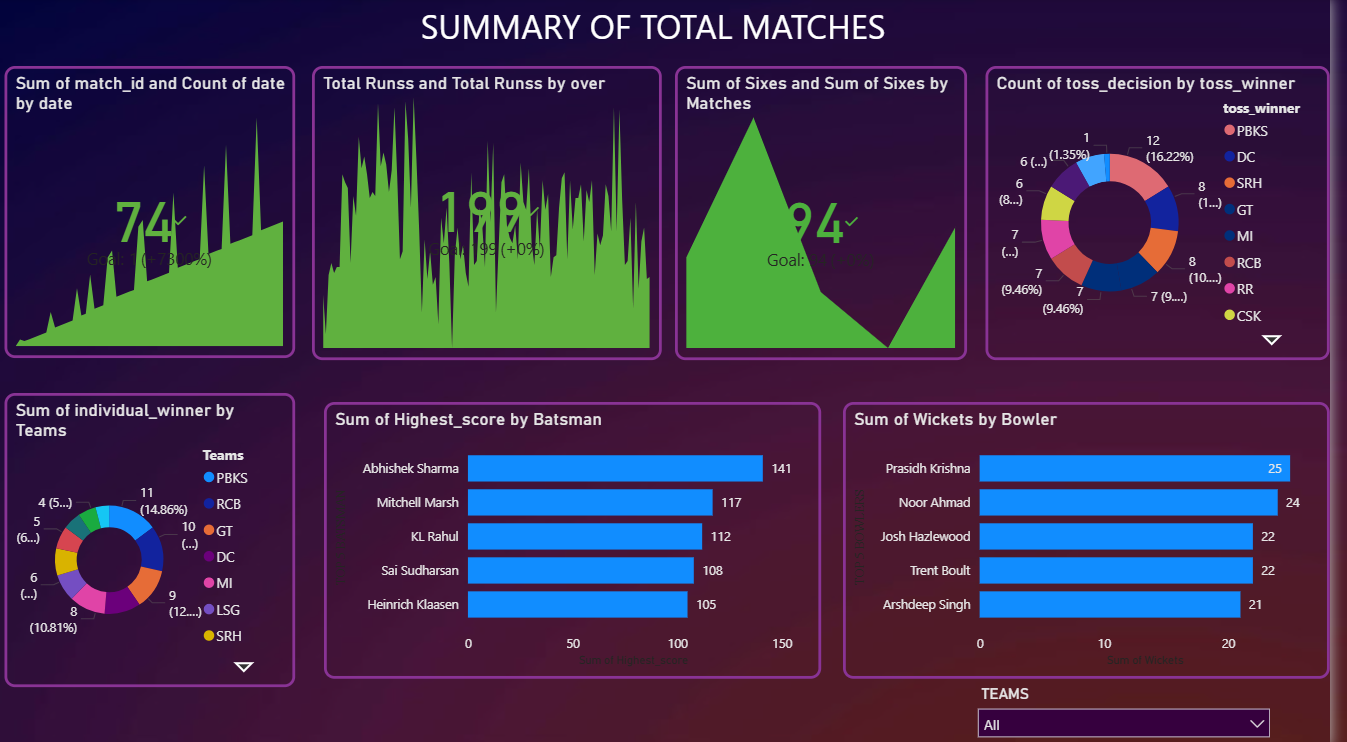

Layout of this report page (visuals, bound fields, positions):
{"tool":"powerbi","page":{"name":"Page 2","canvas":[1280,720],"ordinal":1},"visuals":[{"type":"kpi","fields":{"Indicator":["Sum(Matches.match_id)"],"TrendLine":["Matches.date"],"Goal":["CountNonNull(Matches.date)"]},"box":[10,66.7,278.3,280],"z":0},{"type":"kpi","fields":{"Indicator":["Deliveries.Total Runss"],"TrendLine":["Deliveries.over"],"Goal":["Deliveries.Total Runss"]},"box":[305,66.7,335,281.7],"z":1000},{"type":"kpi","fields":{"Indicator":["Sum(orange_cap2.Sixes)"],"TrendLine":["orange_cap2.Matches"],"Goal":["Sum(orange_cap2.Sixes)"]},"box":[653.3,66.7,280,281.7],"z":2000},{"type":"donutChart","fields":{"Y":["Sum(Matches (2).individual_winner)"],"Category":["Matches (2).Teams"]},"box":[10,380,278.3,281.7],"z":3000},{"type":"barChart","fields":{"Category":["orange_cap2.Batsman"],"Y":["Sum(orange_cap2.Highest_score)"]},"box":[316.7,388.3,476.7,265],"z":4000},{"type":"barChart","fields":{"Category":["purple_cap3.Bowler"],"Y":["Sum(purple_cap3.Wickets)"]},"box":[813.3,388.3,466.7,265],"z":5000},{"type":"donutChart","fields":{"Category":["Matches.toss_winner"],"Y":["CountNonNull(Matches.toss_decision)"]},"box":[950,66.7,330,281.7],"z":6000},{"type":"textbox","box":[404,0,546,66],"z":7000},{"type":"slicer","fields":{"Values":["Merge1.TEAMS"]},"box":[934,654,300,66],"z":8000}]}

Visuals, with their boxes in screenshot pixels (x1, y1, x2, y2), scaled from the page's 1280x720 canvas onto the 1347x742 screenshot:
kpi - Sum(Matches.match_id) x Matches.date: 11:69:303:357
kpi - Deliveries.Total Runss x Deliveries.over: 321:69:674:359
kpi - Sum(orange_cap2.Sixes) x orange_cap2.Matches: 687:69:982:359
donutChart - Sum(Matches (2).individual_winner) x Matches (2).Teams: 11:392:303:682
barChart - orange_cap2.Batsman x Sum(orange_cap2.Highest_score): 333:400:835:673
barChart - purple_cap3.Bowler x Sum(purple_cap3.Wickets): 856:400:1346:673
donutChart - Matches.toss_winner x CountNonNull(Matches.toss_decision): 1000:69:1346:359
textbox: 425:0:1000:68
slicer - Merge1.TEAMS: 983:674:1299:741
